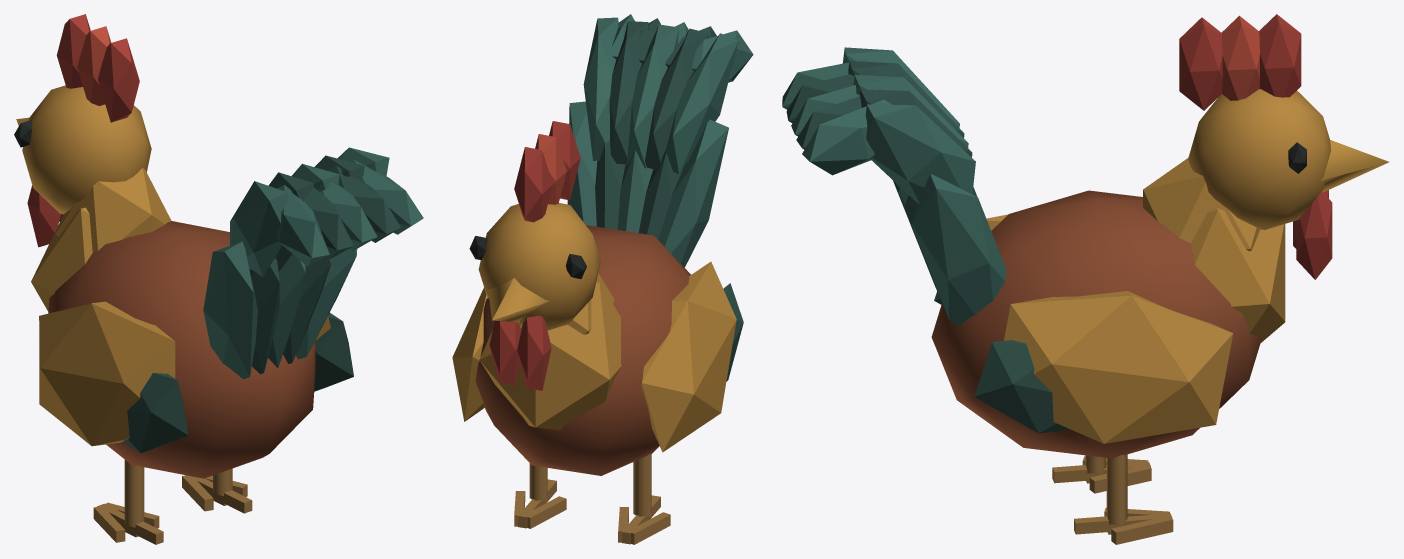
Rendered from rooster.glb.
3 views of the same model, side by side, from view 1: azimuth 30°, elevation 25°; view 2: azimuth 150°, elevation 25°; view 3: azimuth 270°, elevation 25° (orthographic). The views are drawn at different scales.
Visible parts, largest first — view 1: rooster; view 2: rooster; view 3: rooster.
Boxes of the visible parts, box(x1,y1,x2,y2) form: rooster: box(14, 14, 423, 544); rooster: box(452, 14, 753, 544); rooster: box(782, 14, 1389, 544).
Size of the model in its own units: 0.4741 by 0.8123 by 0.9369.
